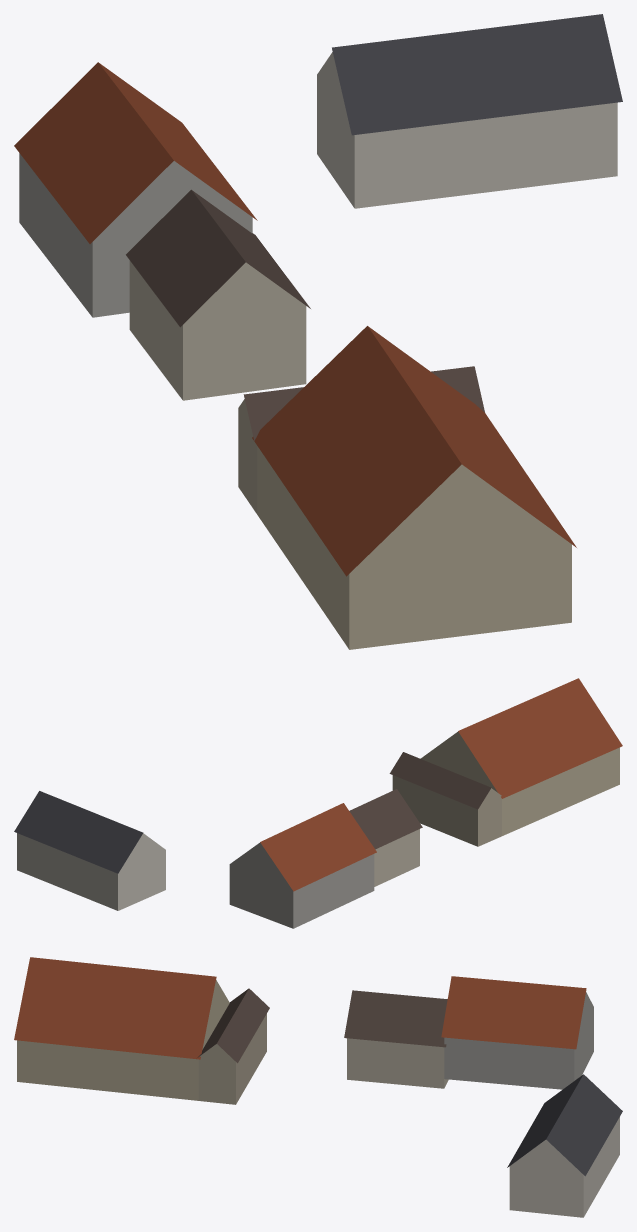
3 views of the same model, one above another, from view 1: azimuth 30°, elevation 25°; view 2: azimuth 150°, elevation 25°; view 3: azimuth 270°, elevation 25° (orthographic). The views are drawn at different scales.
Parts seen in each view (by area): view 1: buildings; view 2: buildings; view 3: buildings.
Part boxes in pixels (left/top/right/bottom): buildings: left=14, top=14, right=622, bottom=649; buildings: left=14, top=678, right=622, bottom=928; buildings: left=14, top=957, right=622, bottom=1217.
Bounding box in the file's own units: 57.71 × 14.05 × 75.61.
